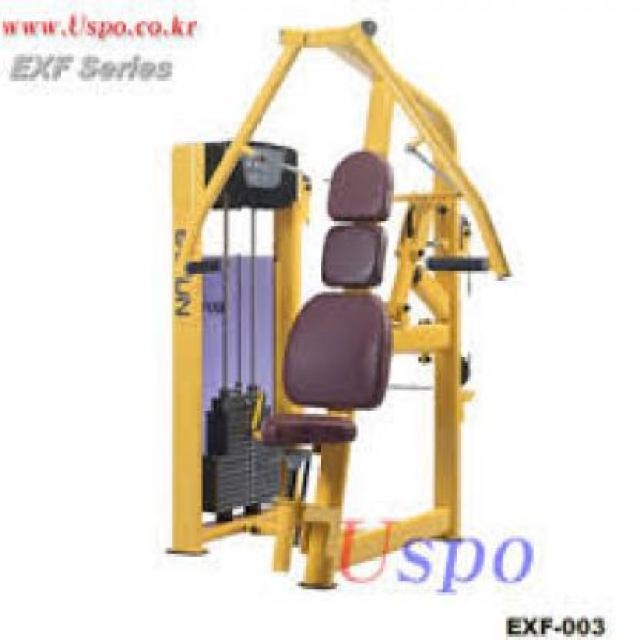chest fly machine: (152, 15, 538, 597)
